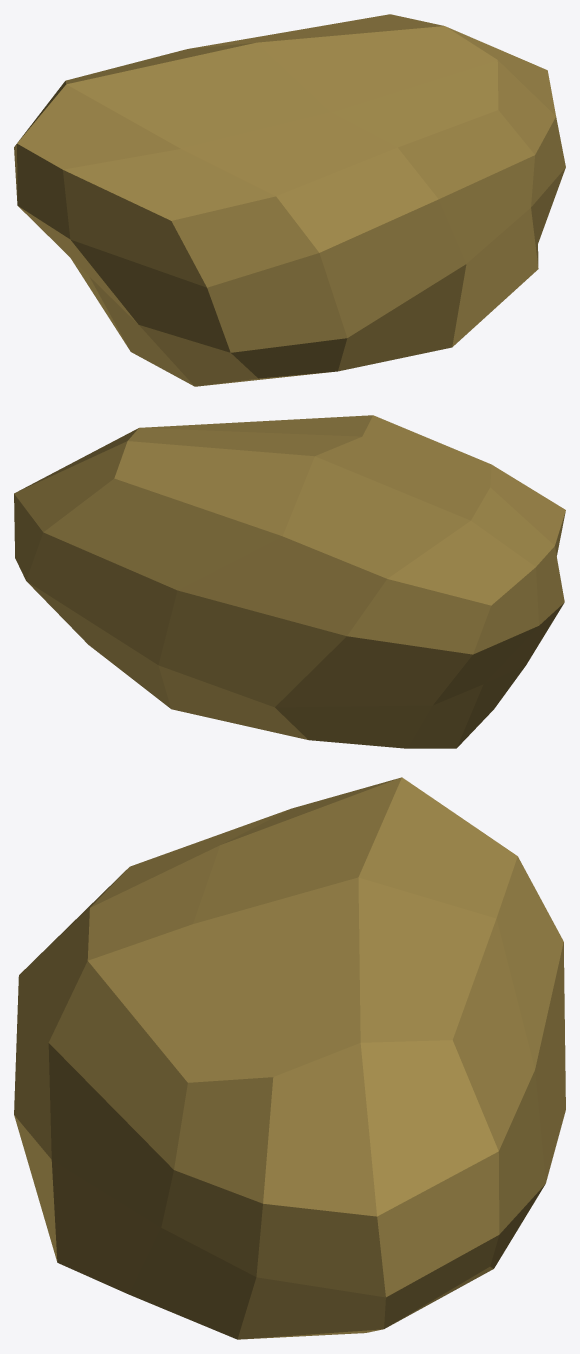
File: Detail1.fbx
3 views of the same model, one above another, from view 1: azimuth 30°, elevation 25°; view 2: azimuth 150°, elevation 25°; view 3: azimuth 270°, elevation 25° (orthographic). The views are drawn at different scales.
Parts seen in each view (by area): view 1: Detail1; view 2: Detail1; view 3: Detail1.
Boxes of the visible parts, x1,y1,x2,y2 form: Detail1: (14,14,565,386); Detail1: (14,415,565,748); Detail1: (14,777,565,1339).
Size of the model in its own units: 466 by 234 by 310.
